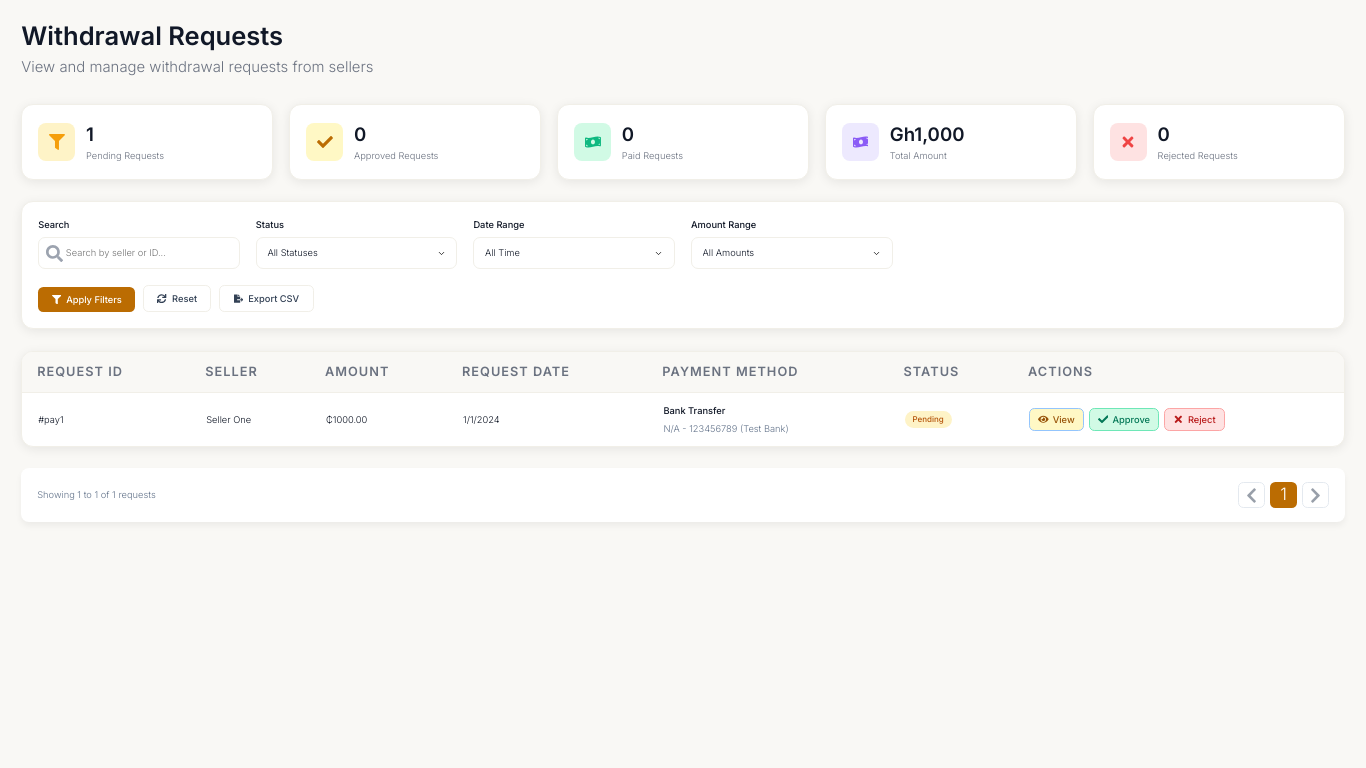
it: PaymentPage › filters by status
The image size is (1366, 768).
Step 1. Select "Paid" in the 1st dropdown → (357, 253), box [256,237,457,269]
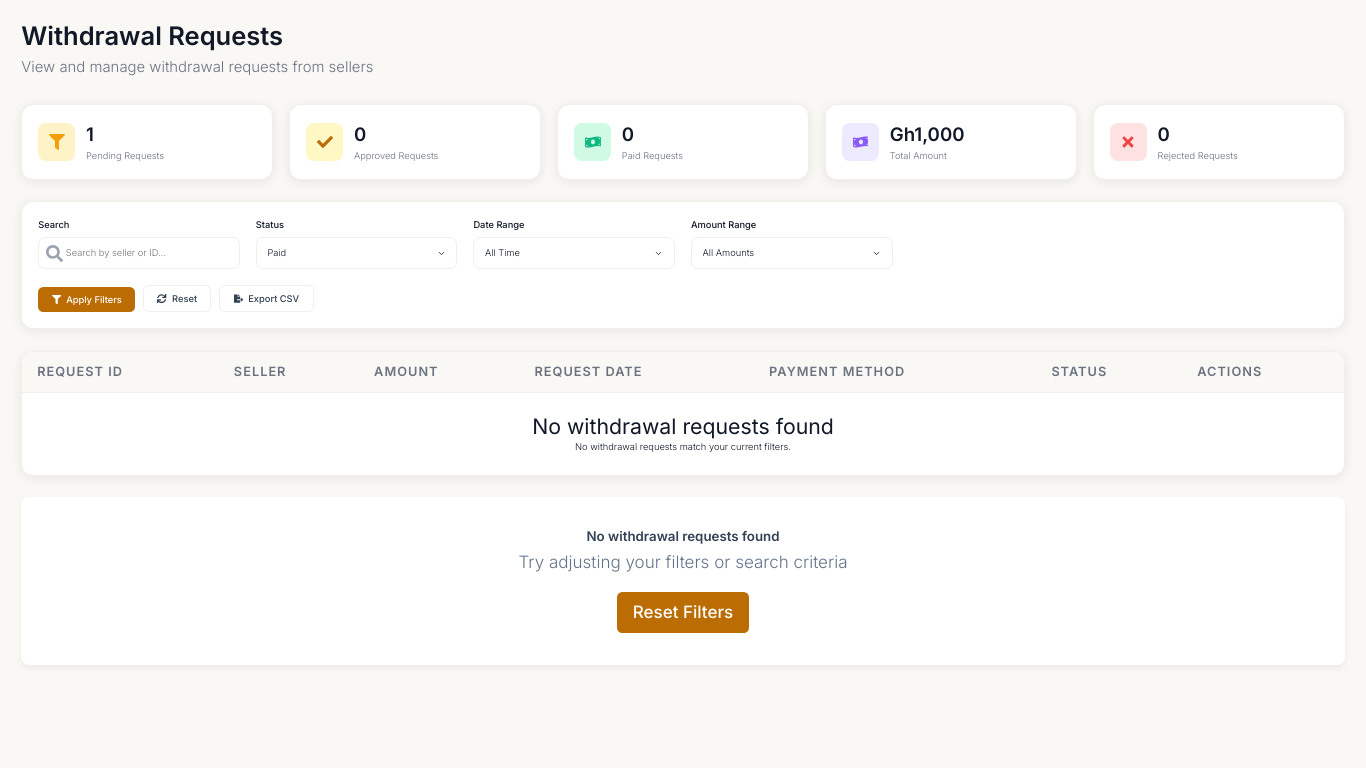
Expected: the heading "No withdrawal requests found" below "Request ID" is shown, [532,413,834,439]
